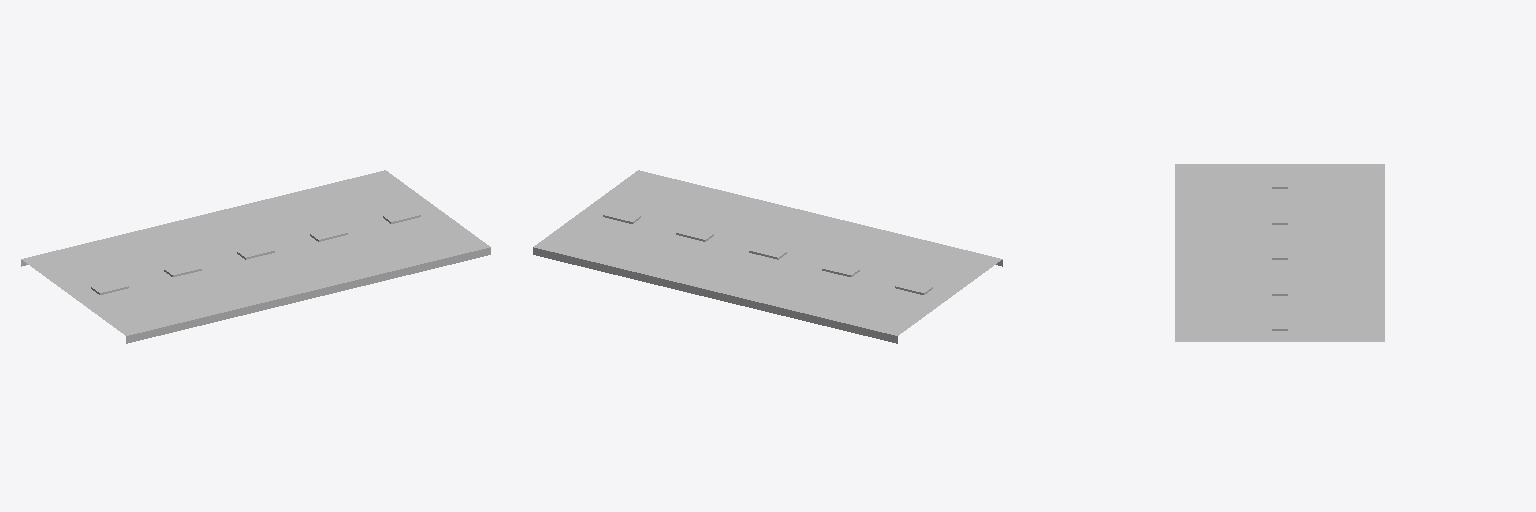
File: road.obj
3 views of the same model, side by side, from view 1: azimuth 30°, elevation 25°; view 2: azimuth 150°, elevation 25°; view 3: azimuth 270°, elevation 25° (orthographic).
Parts seen in each view (by area): view 1: Box002_RoadBase_0, Box002_RoadRim_0, Box007_RoadRim_0; view 2: Box002_RoadBase_0, Box002_RoadRim_0, Box007_RoadRim_0; view 3: Box002_RoadBase_0, Box002_RoadRim_0, Box007_RoadRim_0.
Part boxes in pixels (left/top/right/bottom): Box002_RoadBase_0: left=21, top=173, right=490, bottom=343; Box002_RoadRim_0: left=21, top=170, right=489, bottom=335; Box007_RoadRim_0: left=91, top=209, right=420, bottom=294; Box002_RoadBase_0: left=533, top=173, right=1002, bottom=343; Box002_RoadRim_0: left=534, top=170, right=1002, bottom=335; Box007_RoadRim_0: left=603, top=209, right=932, bottom=294; Box002_RoadBase_0: left=1183, top=164, right=1376, bottom=341; Box002_RoadRim_0: left=1175, top=164, right=1384, bottom=341; Box007_RoadRim_0: left=1272, top=173, right=1287, bottom=330.
Size of the model in its own units: 254 by 6.43 by 127.